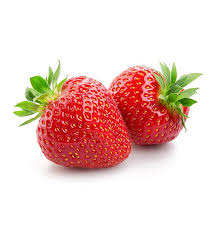Fresa: (33, 72, 134, 175), (109, 62, 195, 152)
